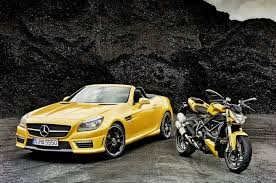Car: (16, 84, 173, 157)
Motorbike: (175, 89, 256, 173)
